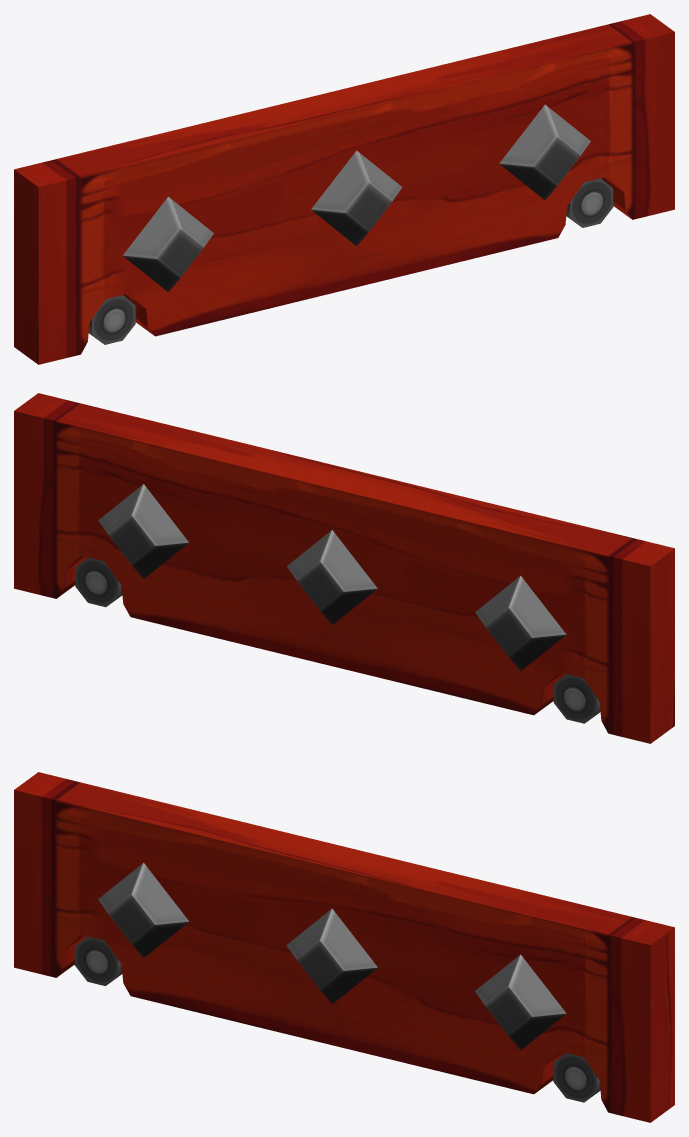
File: dynamic_fence_rad_02.fbx
3 views of the same model, one above another, from view 1: azimuth 30°, elevation 25°; view 2: azimuth 150°, elevation 25°; view 3: azimuth 330°, elevation 25° (orthographic).
Visible parts, largest first — view 1: dynamic_fence_rad_02; view 2: dynamic_fence_rad_02; view 3: dynamic_fence_rad_02.
Boxes of the visible parts, left/top/right/bottom form: dynamic_fence_rad_02: left=14, top=14, right=674, bottom=364; dynamic_fence_rad_02: left=14, top=393, right=674, bottom=743; dynamic_fence_rad_02: left=14, top=772, right=674, bottom=1122.
Size of the model in its own units: 150 by 40 by 19.91.
